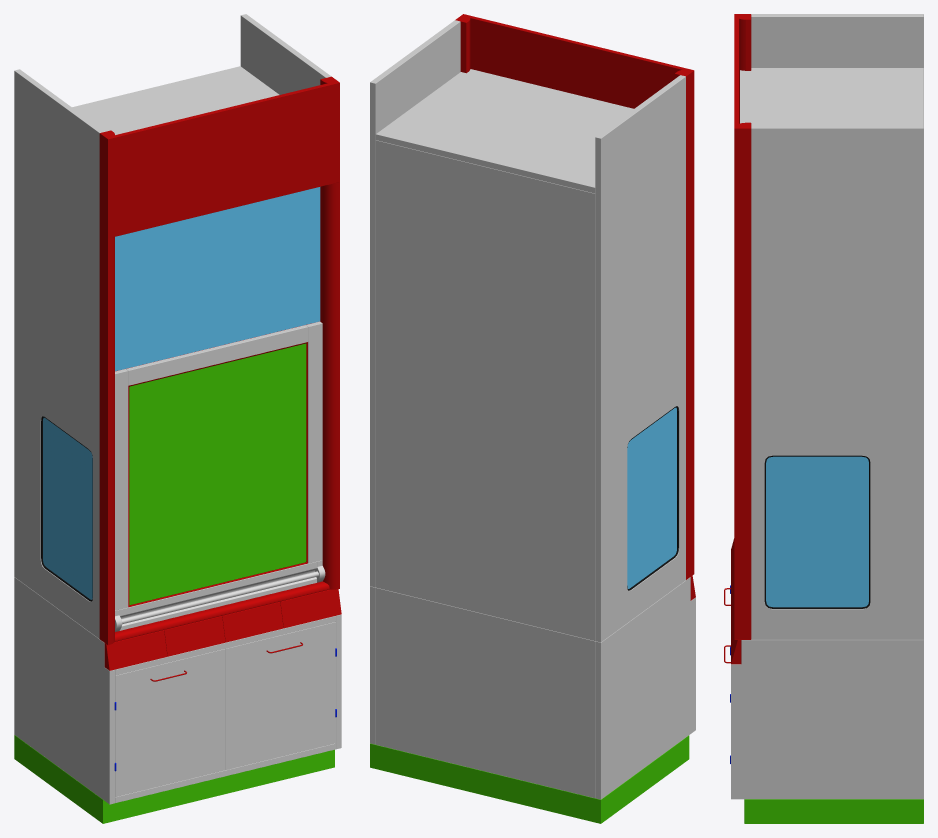
The model's file is Cupboard03.fbx.
3 views of the same model, side by side, from view 1: azimuth 30°, elevation 25°; view 2: azimuth 150°, elevation 25°; view 3: azimuth 270°, elevation 25° (orthographic).
Visible parts, largest first — view 1: Cupboard03, CupboardDoor, Drawer02, Drawer01; view 2: Cupboard03; view 3: Cupboard03.
Part boxes in pixels (bbox=[...]): Cupboard03: bbox=[14, 14, 341, 823]; CupboardDoor: bbox=[115, 321, 325, 631]; Drawer02: bbox=[225, 622, 335, 769]; Drawer01: bbox=[115, 649, 225, 796]; Cupboard03: bbox=[370, 14, 695, 823]; Cupboard03: bbox=[730, 14, 923, 823].
Bounding box in the file's own units: 100 × 73.75 × 283.
